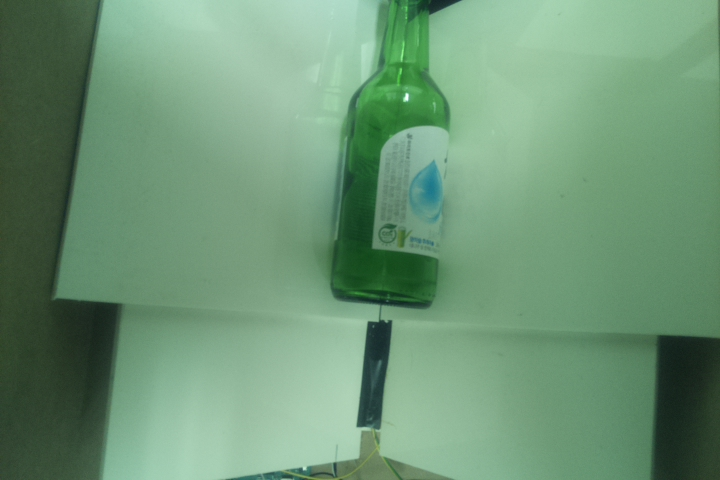soju: (327, 1, 450, 309)
